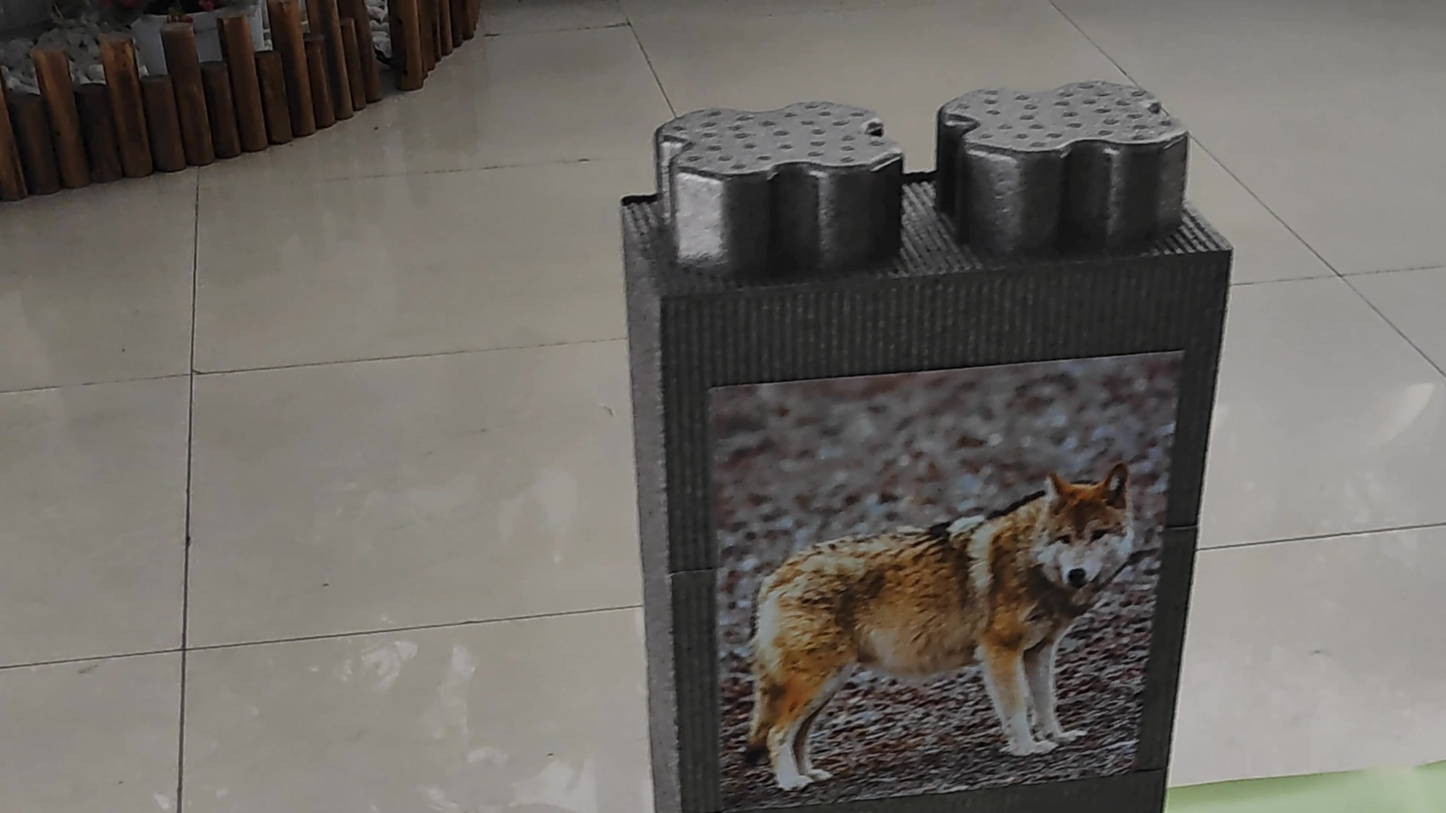wolf: (747, 428, 1118, 778)
